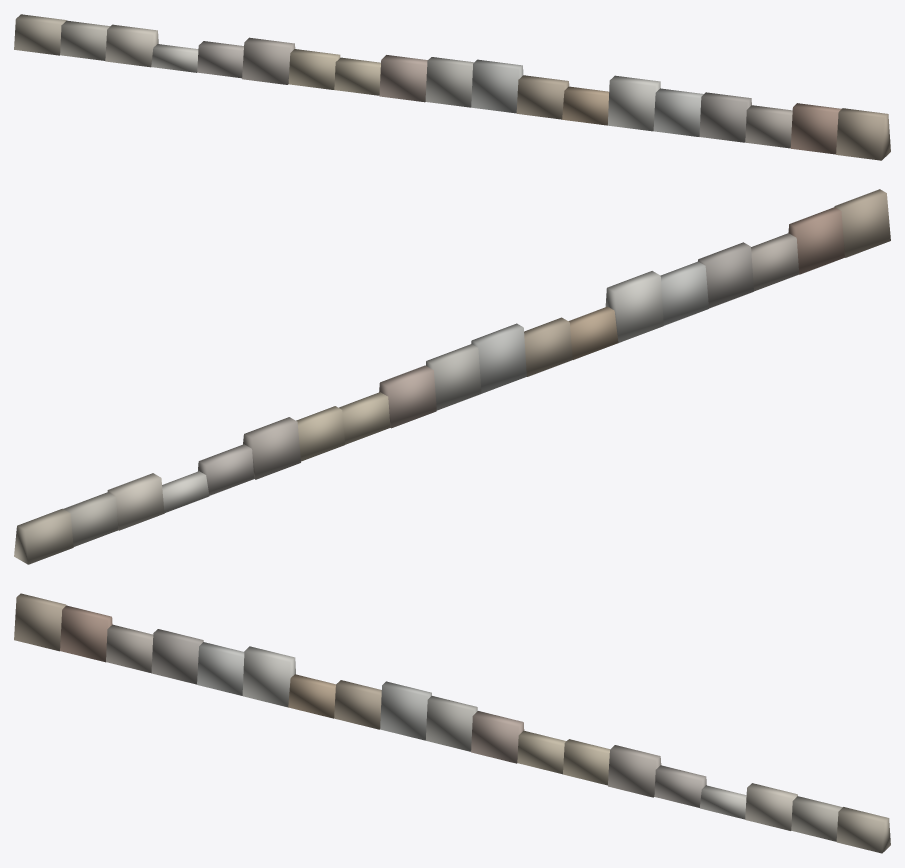
Rendered from farm_6_1_collision.glb.
The picture shows the model from 3 angles, top to bottom: view 1: azimuth 90°, elevation 25°; view 2: azimuth 150°, elevation 25°; view 3: azimuth 270°, elevation 25°; orthographic projection. The views are drawn at different scales.
Parts seen in each view (by area): view 1: geometry_0; view 2: geometry_0; view 3: geometry_0.
Boxes of the visible parts, <box> form: geometry_0: <box>14,14,890,160</box>; geometry_0: <box>14,189,890,564</box>; geometry_0: <box>14,593,890,853</box>.
Size of the model in its own units: 12.91 by 3.24 by 28.03.
